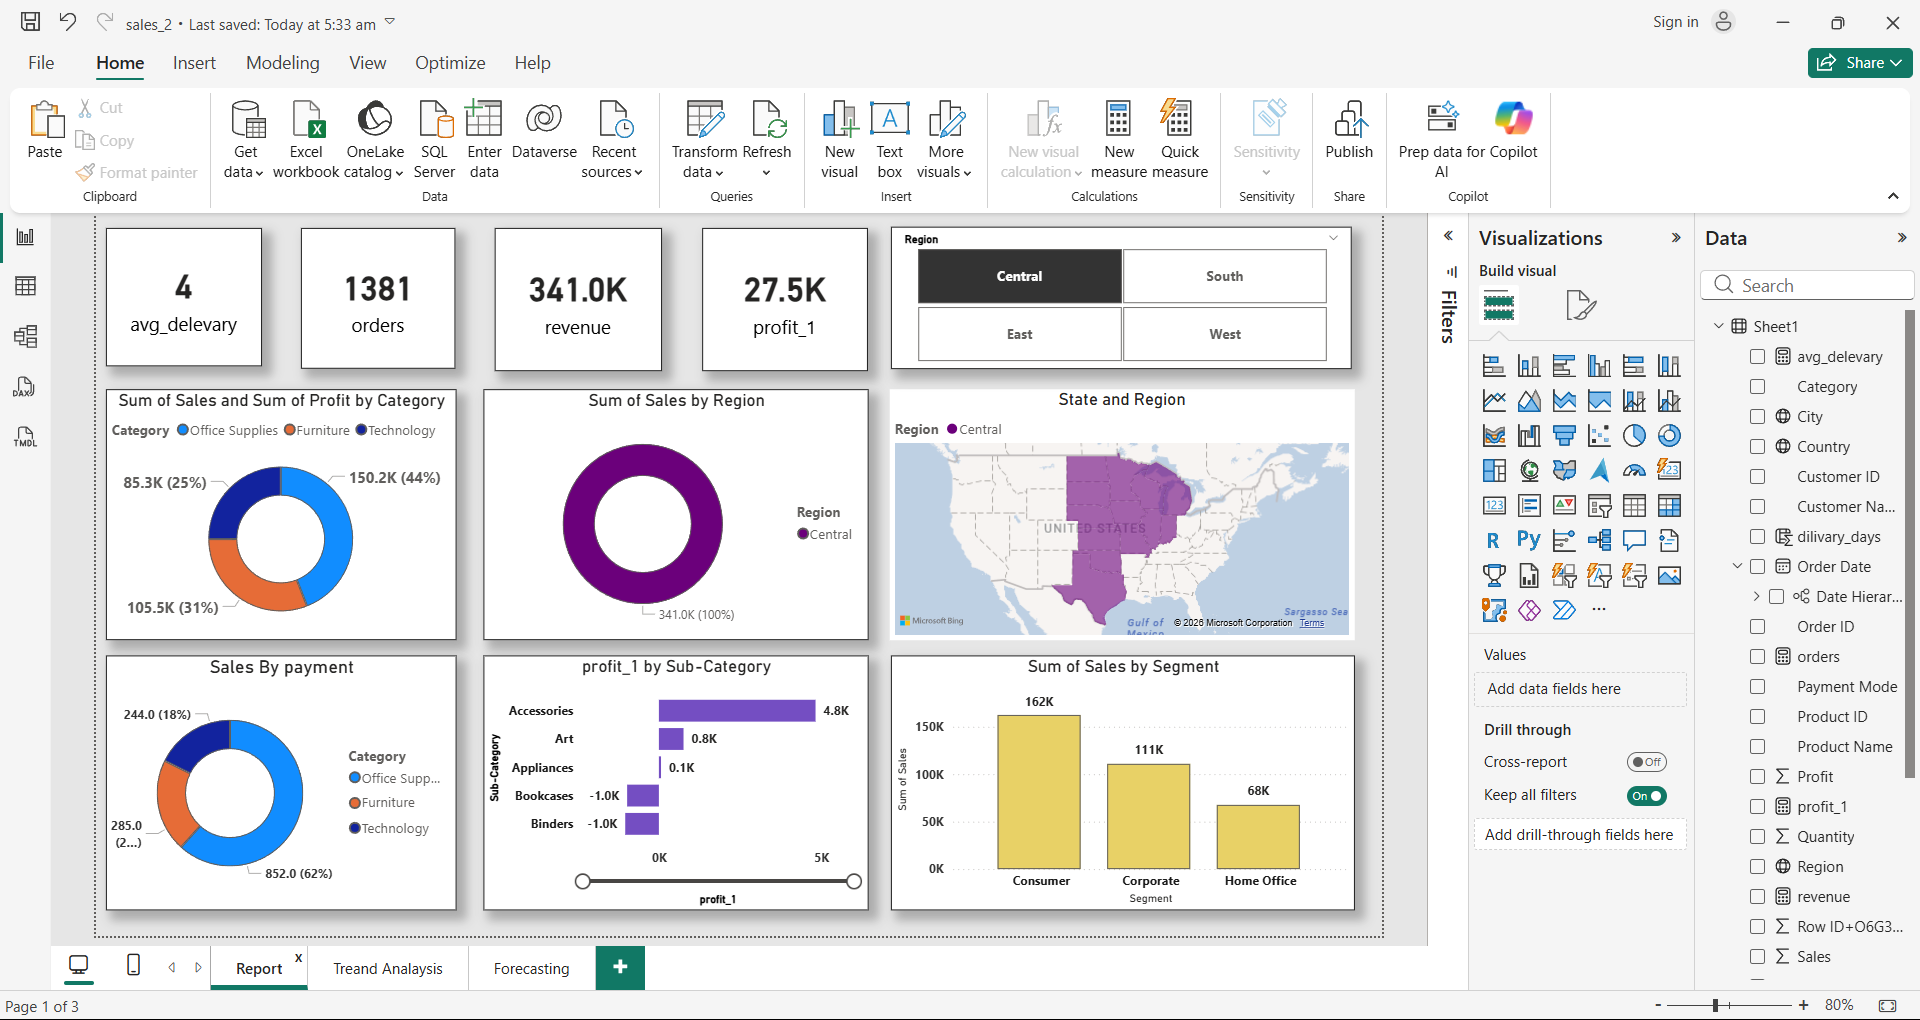

The page's visual inventory and layout, read from the dashboard file:
{"tool":"powerbi","page":{"name":"Report","canvas":[1280,720],"ordinal":0},"visuals":[{"type":"card","fields":{"Values":["Sheet1.avg_delevary"]},"box":[9.6,15.1,155.1,137.2],"z":0},{"type":"card","fields":{"Values":["Sheet1.orders"]},"box":[204.5,15.1,153.7,140],"z":1000},{"type":"card","fields":{"Values":["Sheet1.revenue"]},"box":[396.6,15.1,166,142.7],"z":2000},{"type":"card","fields":{"Values":["Sheet1.profit_1"]},"box":[603.8,15.1,164.7,142.7],"z":3000},{"type":"donutChart","fields":{"Category":["Sheet1.Category"],"Y":["Sum(Sheet1.Sales)"]},"box":[9.6,175.6,348.5,249.7],"z":4000},{"type":"donutChart","title":"Sales By payment","fields":{"Category":["Sheet1.Category"],"Y":["CountNonNull(Sheet1.Payment Mode)"]},"box":[9.6,440.5,348.5,253.9],"z":5000},{"type":"donutChart","fields":{"Y":["Sum(Sheet1.Sales)"],"Category":["Sheet1.Region"]},"box":[385.6,175.6,382.8,249.7],"z":6000},{"type":"clusteredBarChart","fields":{"Y":["Sheet1.profit_1"],"Category":["Sheet1.Sub-Category"]},"box":[385.6,440.5,382.8,253.9],"z":7000},{"type":"filledMap","fields":{"Category":["Sheet1.State"],"Series":["Sheet1.Region"]},"box":[790.4,175.6,462.4,249.7],"z":8000},{"type":"slicer","fields":{"Values":["Sheet1.Region"]},"box":[791.4,14.3,458.6,141.4],"z":9000},{"type":"clusteredColumnChart","fields":{"Y":["Sum(Sheet1.Sales)"],"Category":["Sheet1.Sub-Category","Sheet1.Segment"]},"box":[791.2,440.4,461.5,253.8],"z":10000}]}

Visuals, with their boxes on the page's 1280x720 design canvas (x1, y1, x2, y2). These are canvas units, not pixel positions in the 1920x1020 screenshot, which may show the page scaled, cropped or inside an application window:
card - Sheet1.avg_delevary: left=10, top=15, right=165, bottom=152
card - Sheet1.orders: left=204, top=15, right=358, bottom=155
card - Sheet1.revenue: left=397, top=15, right=563, bottom=158
card - Sheet1.profit_1: left=604, top=15, right=768, bottom=158
donutChart - Sheet1.Category x Sum(Sheet1.Sales): left=10, top=176, right=358, bottom=425
"Sales By payment" donutChart: left=10, top=440, right=358, bottom=694
donutChart - Sum(Sheet1.Sales) x Sheet1.Region: left=386, top=176, right=768, bottom=425
clusteredBarChart - Sheet1.profit_1 x Sheet1.Sub-Category: left=386, top=440, right=768, bottom=694
filledMap - Sheet1.State x Sheet1.Region: left=790, top=176, right=1253, bottom=425
slicer - Sheet1.Region: left=791, top=14, right=1250, bottom=156
clusteredColumnChart - Sum(Sheet1.Sales) x Sheet1.Sub-Category: left=791, top=440, right=1253, bottom=694
